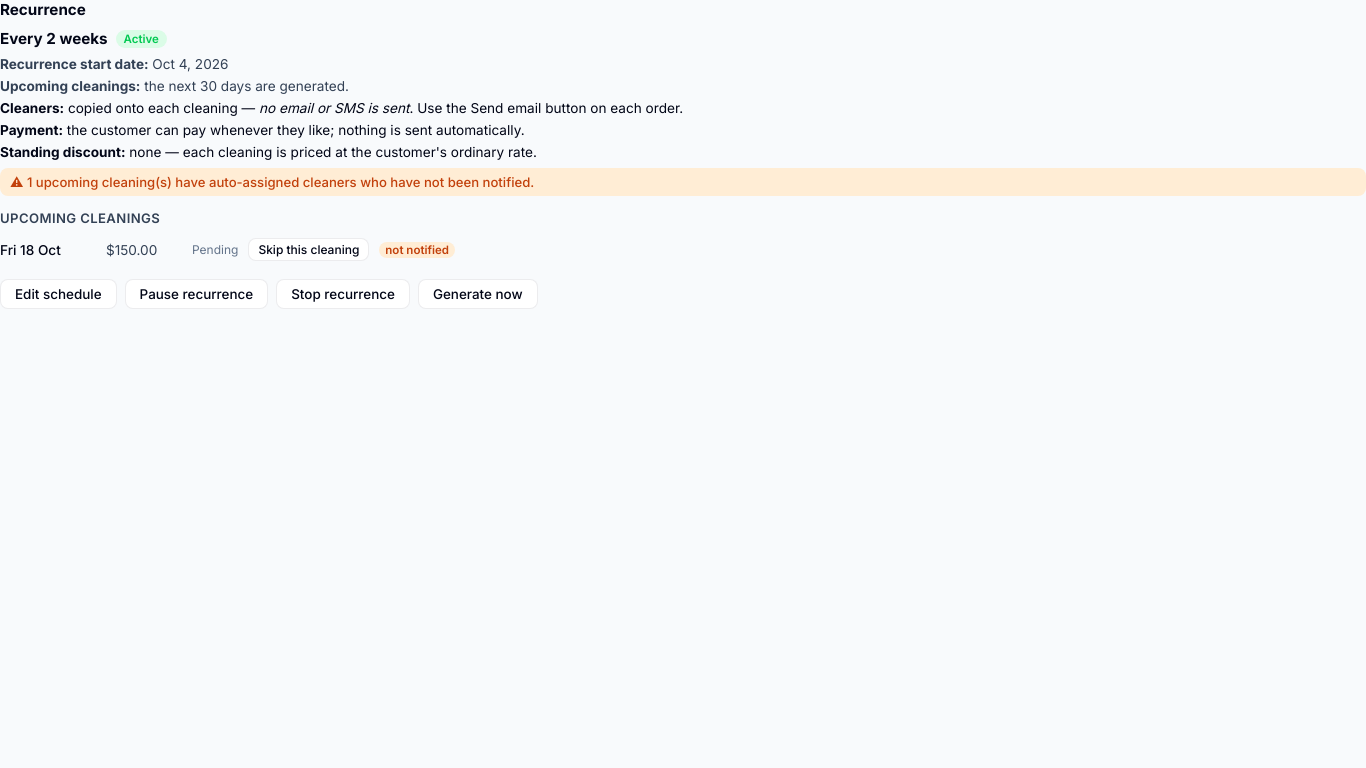
Test: RecurringSeriesPanelComponent › Stop lists the unfinished orders, ticks every deletable one, and disables a blocked one with its reason
Click the button "Stop recurrence": (343, 294) [276, 279, 410, 309]
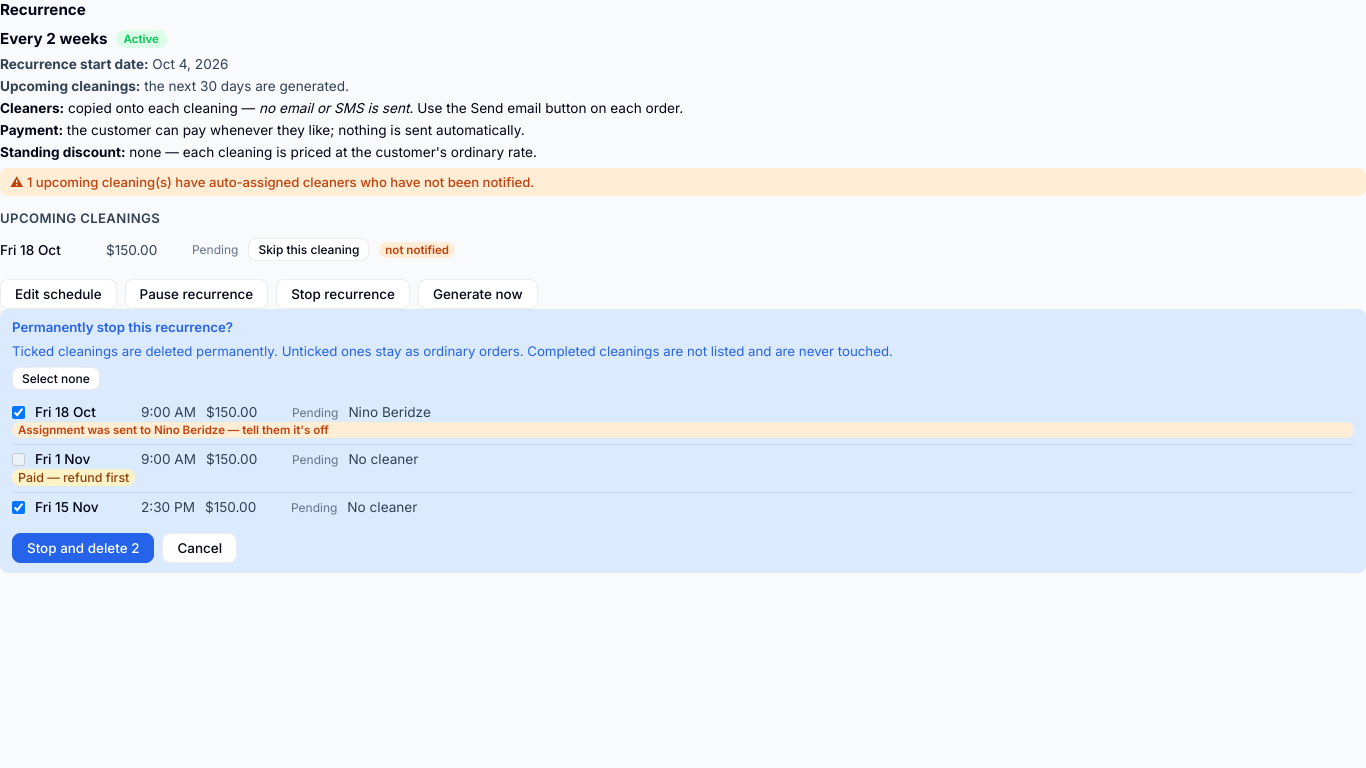
Check: the checkbox labelled "Fri 1 Nov 9:00 AM $150.00 Pending No cleaner" is disabled, box [12, 452, 25, 466]
Check: the text "Paid — refund first" is shown, box [12, 469, 135, 486]
Check: the text "2:30 PM" is shown, box [141, 499, 195, 515]
